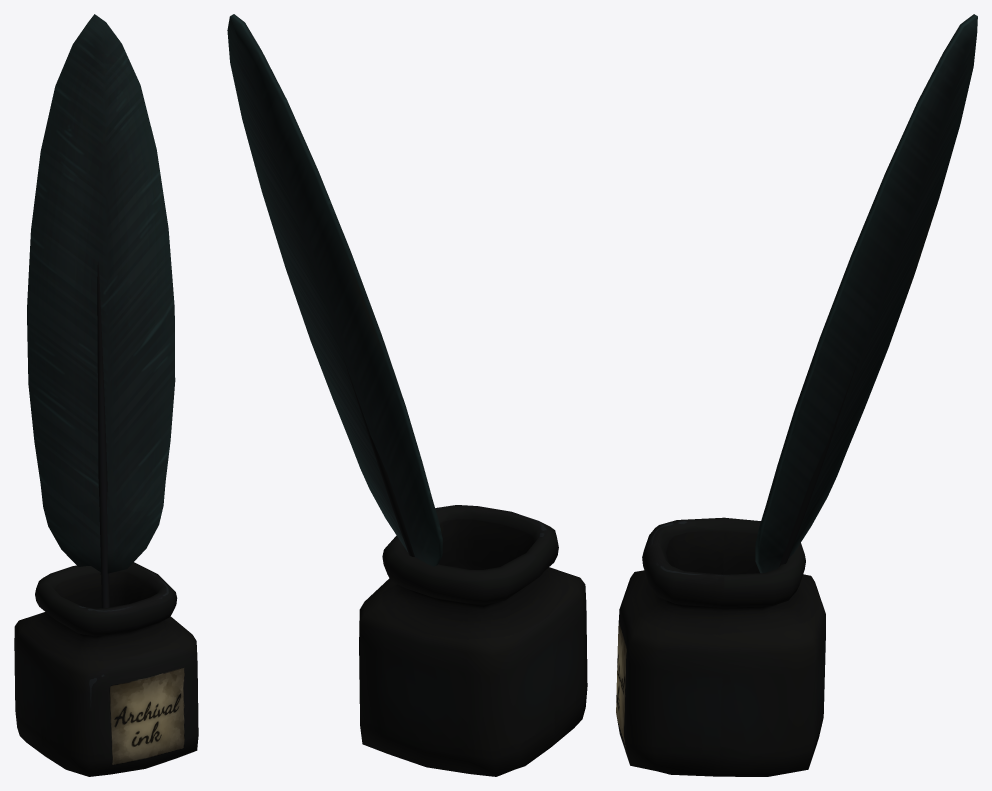
File: tintaPena.glb
The picture shows the model from 3 angles, left to right: view 1: azimuth 30°, elevation 25°; view 2: azimuth 150°, elevation 25°; view 3: azimuth 270°, elevation 25°; orthographic projection. The views are drawn at different scales.
Visible parts, largest first — view 1: Quill_1, Inkwell_0; view 2: Inkwell_0, Quill_1; view 3: Inkwell_0, Quill_1.
Boxes of the visible parts, box(x1,y1,x2,y2) form: Quill_1: box(27, 14, 175, 608); Inkwell_0: box(14, 562, 198, 776); Inkwell_0: box(359, 505, 587, 776); Quill_1: box(227, 14, 442, 566); Inkwell_0: box(616, 517, 825, 776); Quill_1: box(755, 14, 977, 573).
Bounding box in the file's own units: 0.2617 × 0.8657 × 0.3614.
2 materials, 2 textured.
